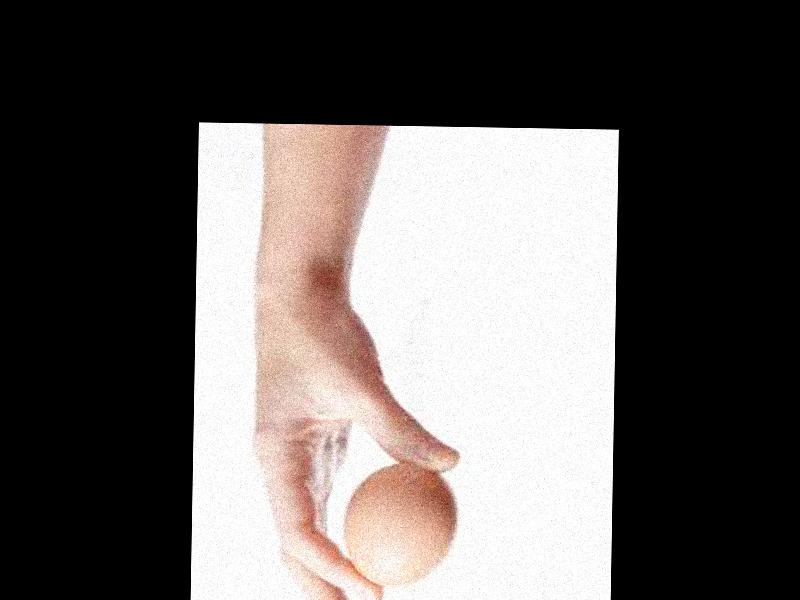Eggs: (345, 460, 457, 586)
